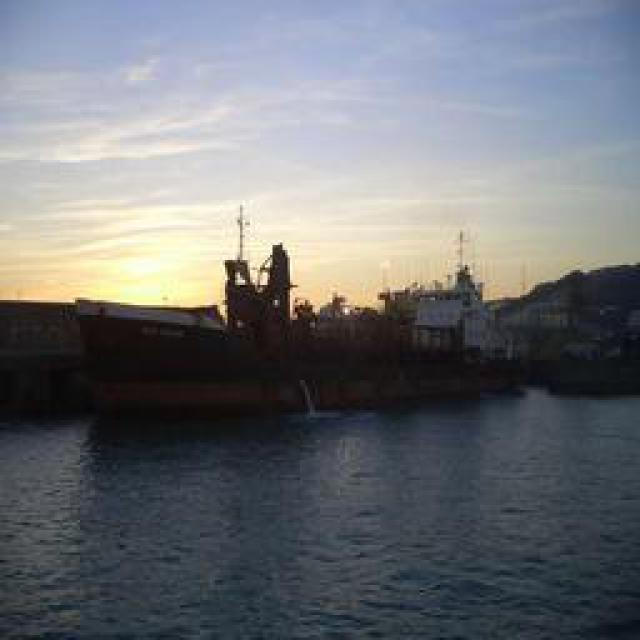Ship: (74, 296, 287, 406)
